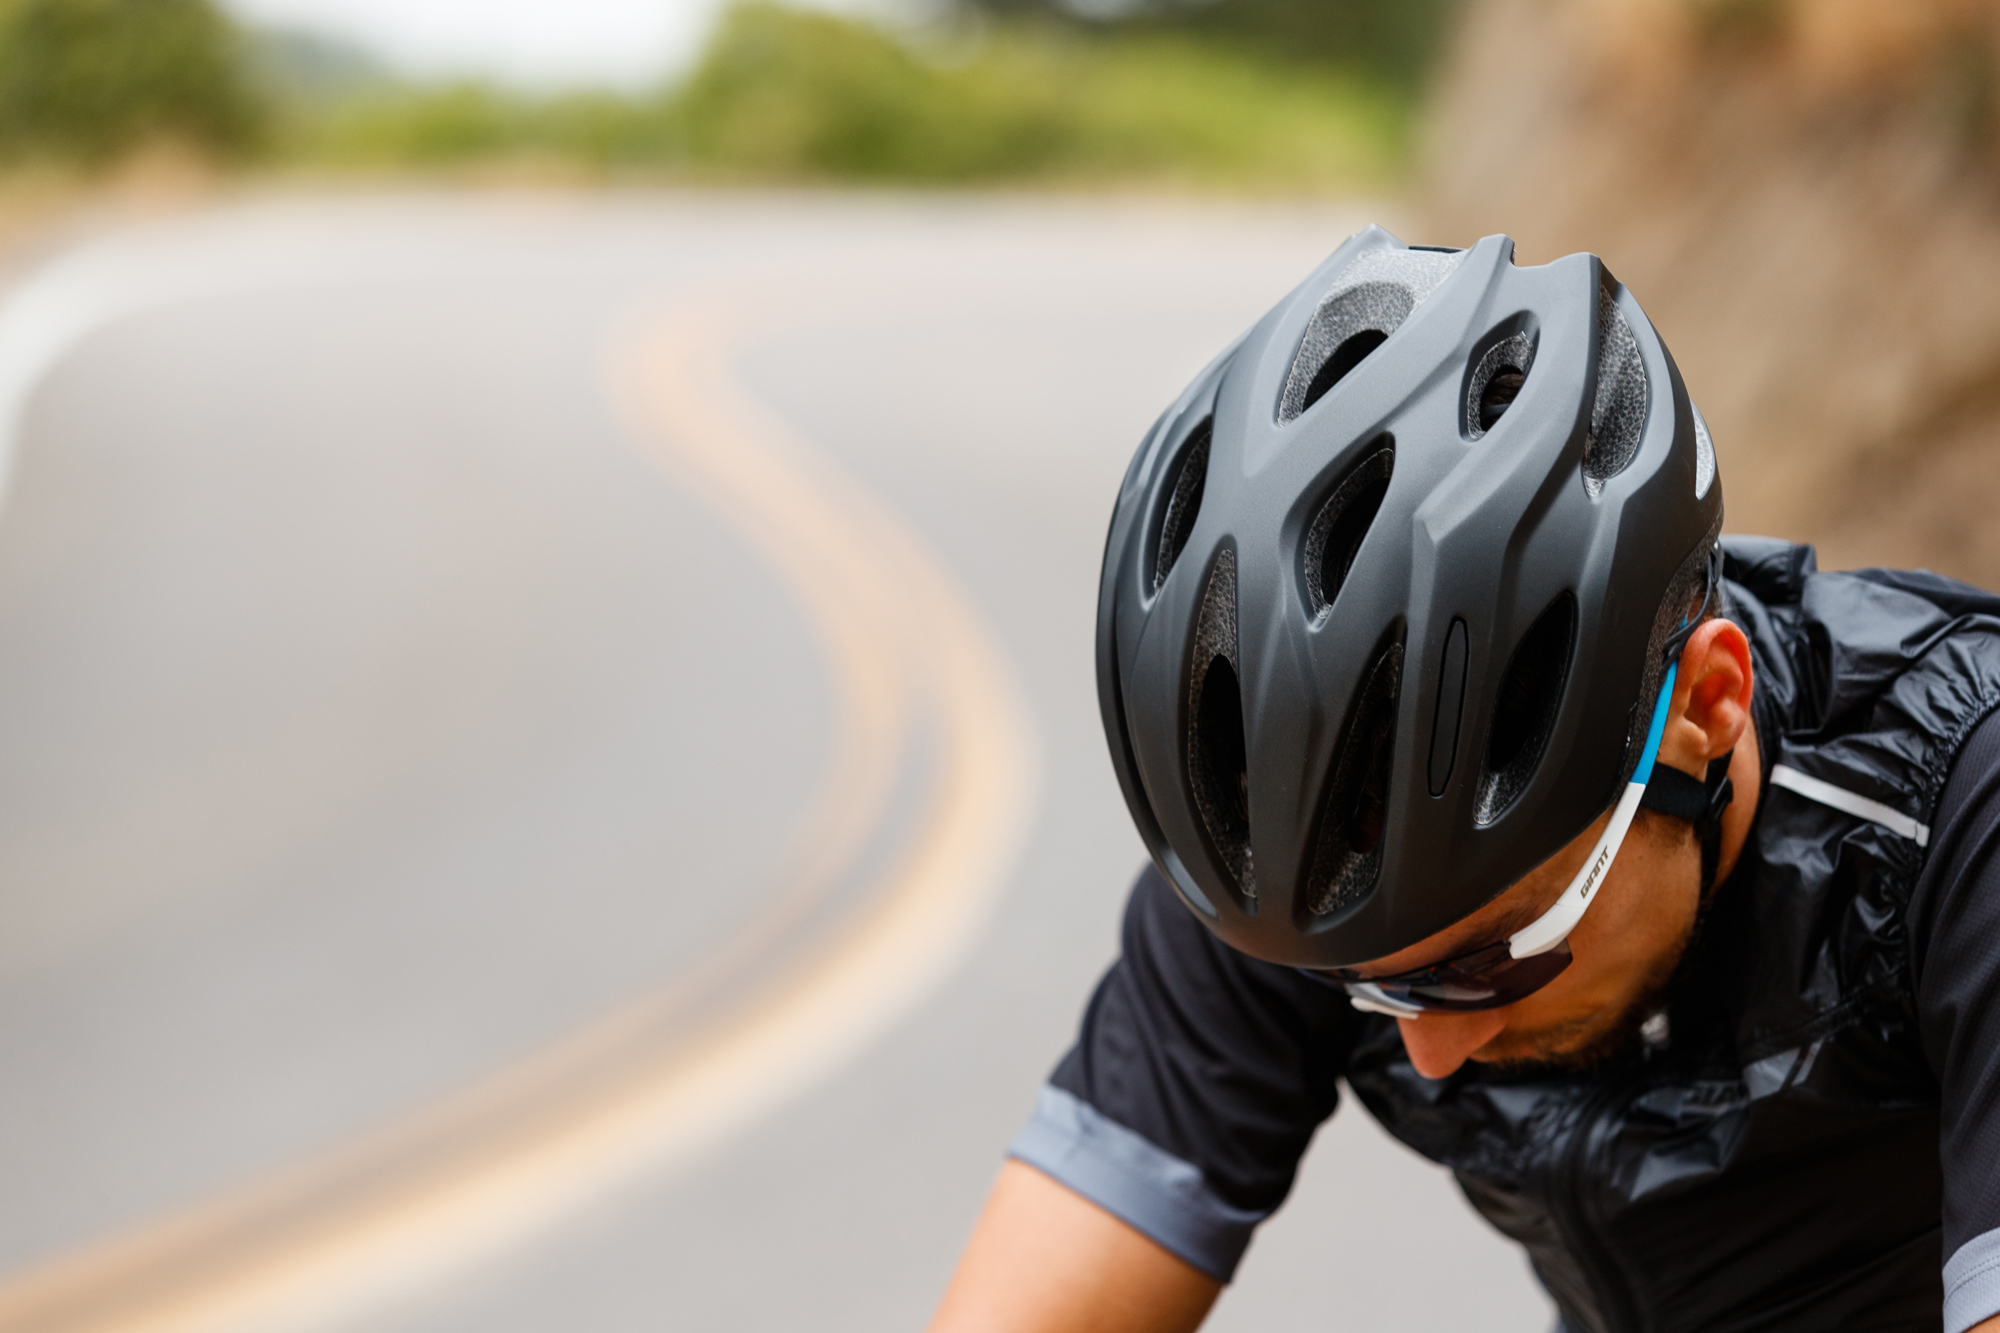helmet: (1094, 220, 1761, 1082)
